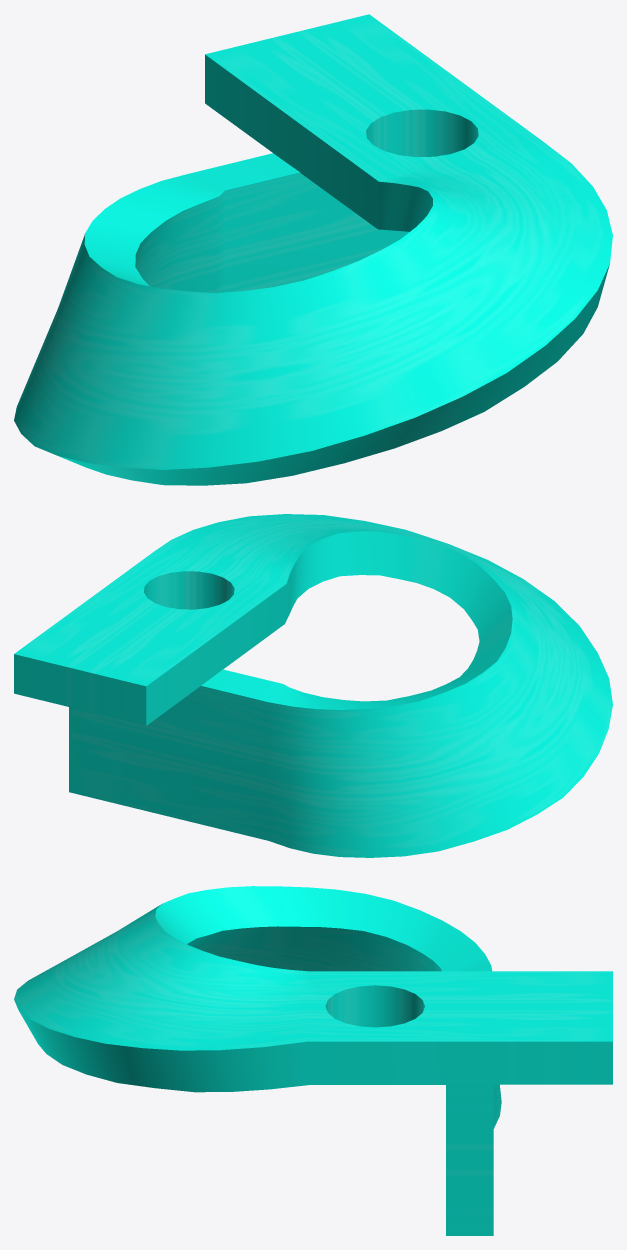
The picture shows the model from 3 angles, top to bottom: view 1: azimuth 30°, elevation 25°; view 2: azimuth 150°, elevation 25°; view 3: azimuth 270°, elevation 25°; orthographic projection. The views are drawn at different scales.
Parts seen in each view (by area): view 1: 0_object4base; view 2: 0_object4base; view 3: 0_object4base.
Part boxes in pixels (box(x1,y1,x2,y2)): 0_object4base: box(14, 14, 612, 485); 0_object4base: box(14, 514, 612, 857); 0_object4base: box(14, 886, 612, 1235).
Bounding box in the file's own units: 123 × 56.51 × 142.
1 material, 1 textured.
